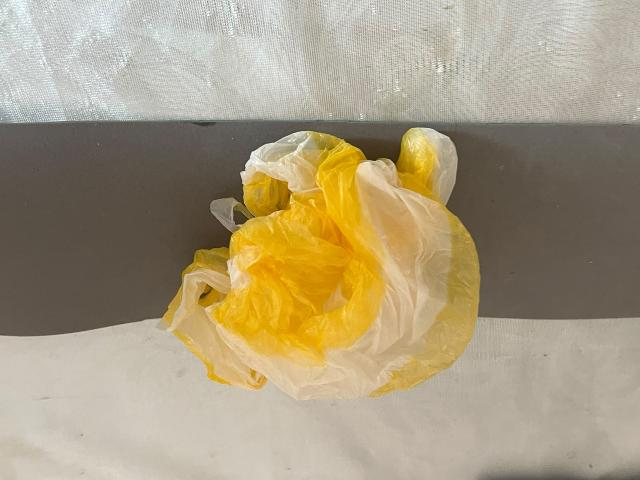LDPE: (144, 112, 500, 431)
